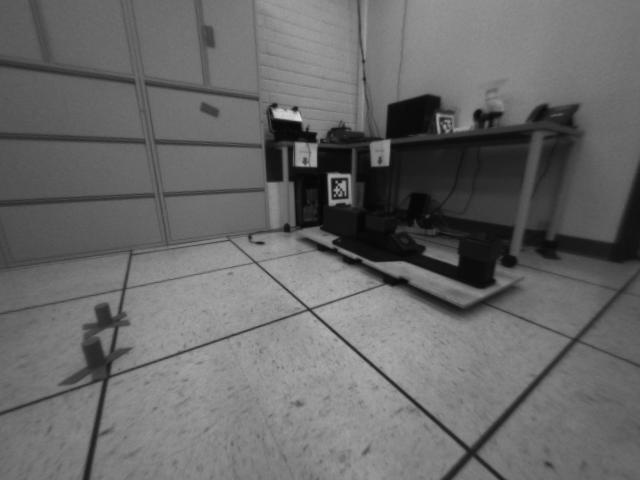X: (57, 340, 131, 385), (81, 302, 132, 336)
